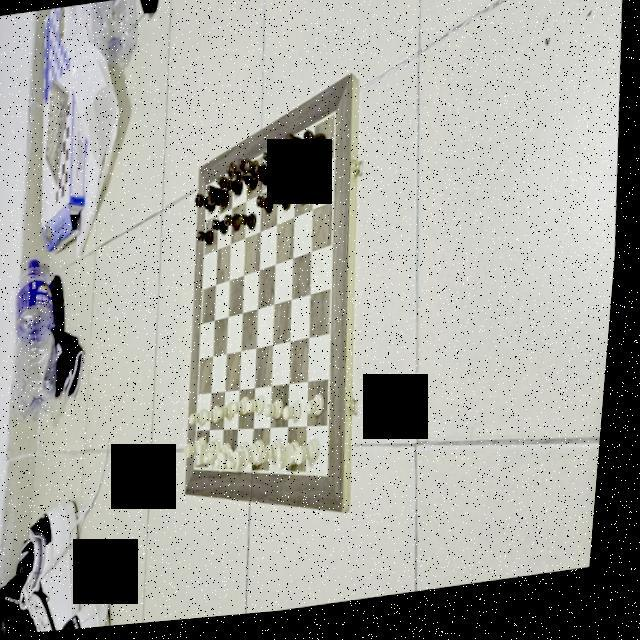chess-table-corners: (330, 474, 338, 488), (333, 115, 340, 129), (200, 468, 204, 478), (208, 187, 212, 196)
